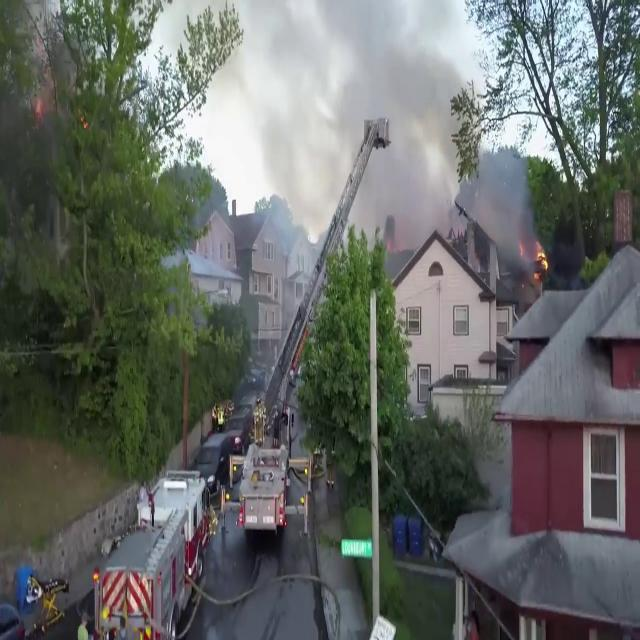Smoke: (264, 1, 526, 262)
